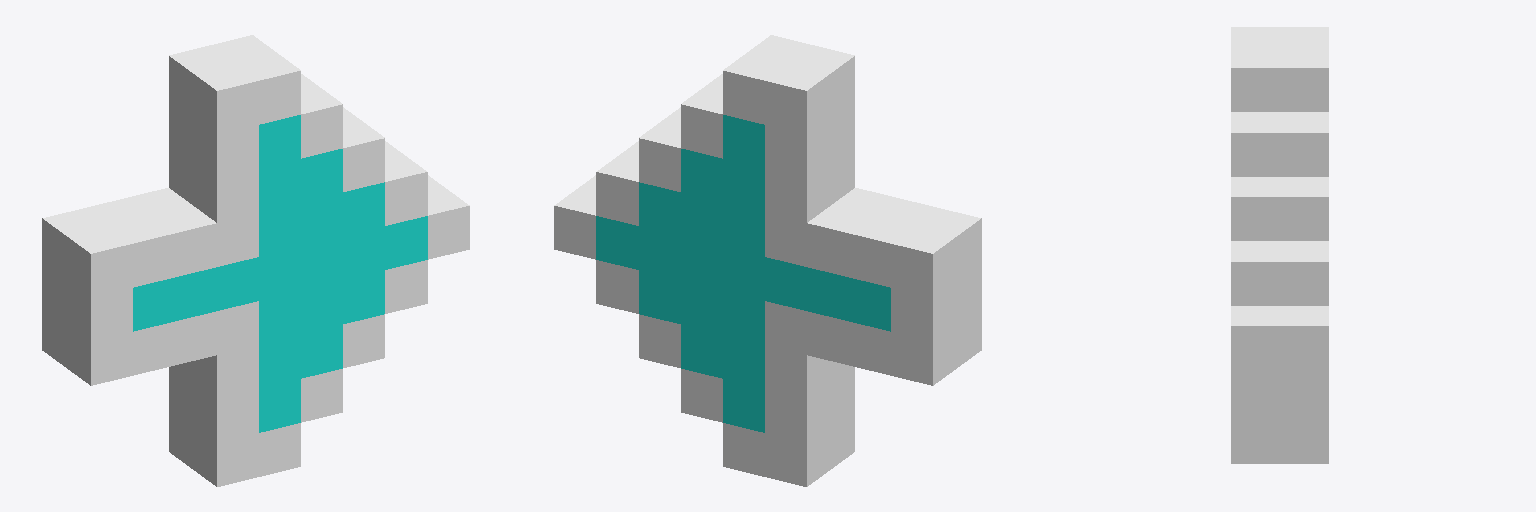
3 renders of one model, left to right at view 1: azimuth 30°, elevation 25°; view 2: azimuth 150°, elevation 25°; view 3: azimuth 270°, elevation 25°, orthographic.
Parts seen in each view (by area): view 1: object 1; view 2: object 1; view 3: object 1.
Boxes of the visible parts, box(x1,y1,x2,y2) form: object 1: box(42, 35, 469, 486); object 1: box(554, 35, 981, 486); object 1: box(1231, 27, 1328, 463).
Size of the model in its own units: 0.9 by 0.9 by 0.2.
Materials: 1 (1 with a texture image).